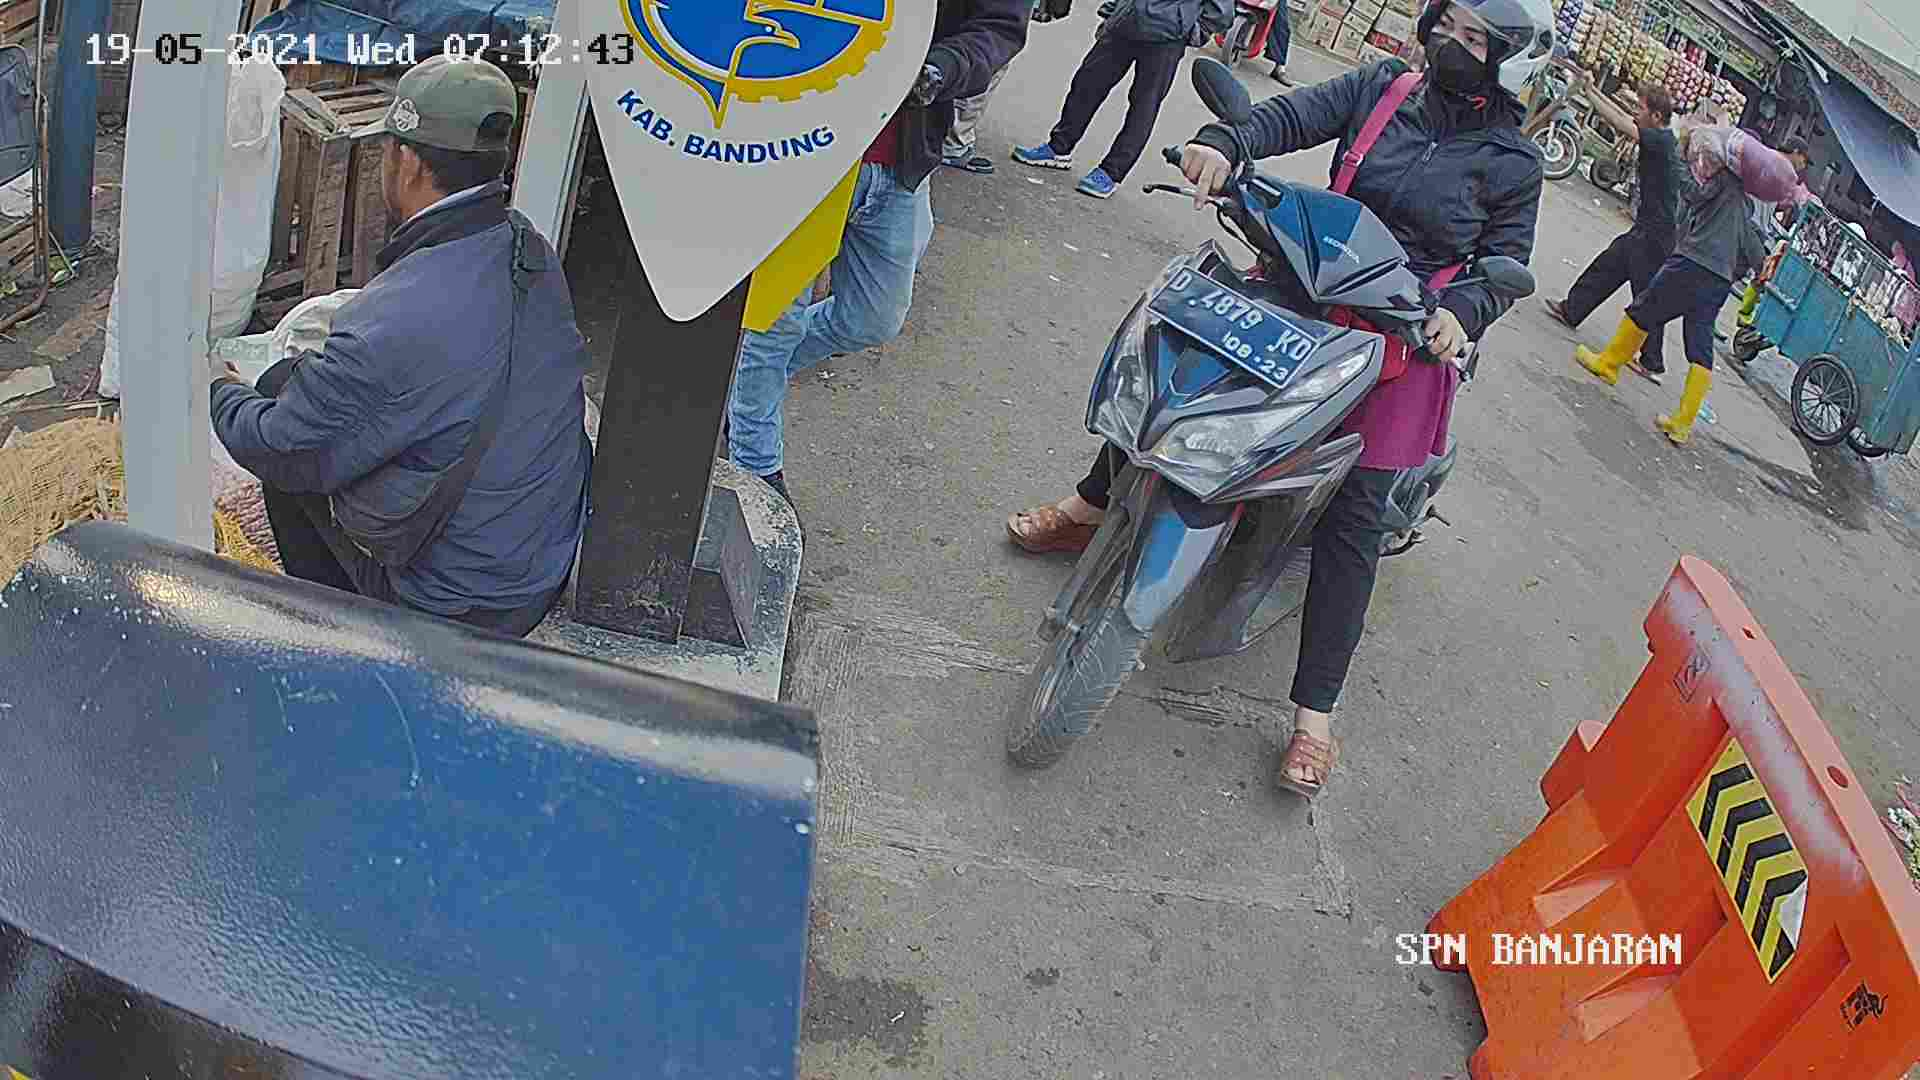motor: (1026, 105, 1444, 855)
